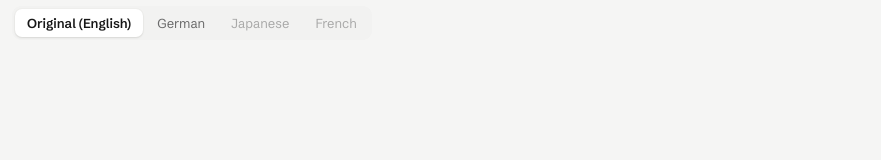
the language switcher of the preview › says why a translation cannot be shown
The width and height of the screenshot is (881, 160).
Click the radio button labelled "German".
click(181, 23)  # box [145,9,217,37]
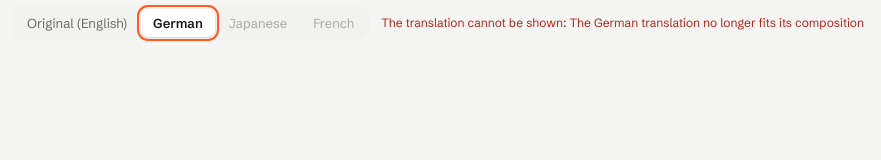
Expected: the message shows "The translation cannot be shown: The German translation no longer fits its composition", [381,15,864,30]
